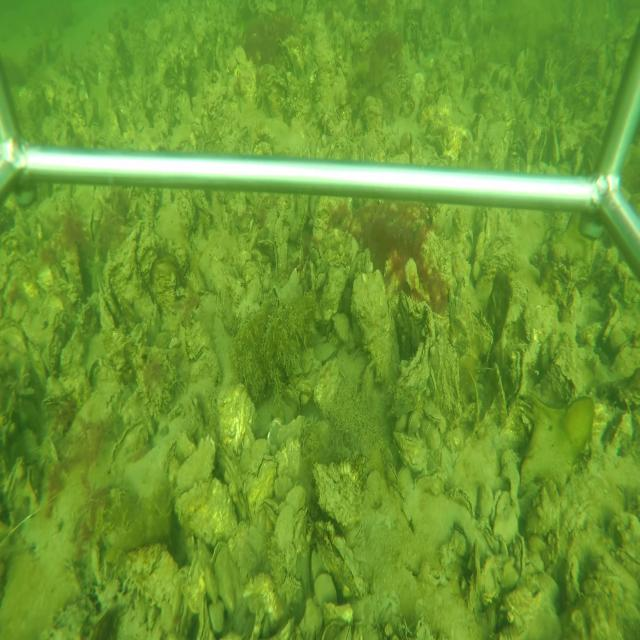Oyster-Closed: (106, 220, 142, 312), (316, 531, 359, 598), (392, 332, 428, 411), (108, 415, 150, 472), (246, 451, 278, 517), (392, 431, 427, 472), (428, 329, 443, 406), (488, 488, 512, 536), (509, 347, 527, 403), (273, 220, 288, 284), (414, 469, 447, 496), (477, 209, 492, 259), (514, 535, 527, 581), (196, 596, 210, 637), (424, 401, 442, 422)
Oyster-Indeterminate: (350, 269, 397, 386), (176, 474, 239, 543), (312, 460, 363, 528), (219, 383, 256, 455), (171, 432, 216, 491), (318, 258, 348, 325), (274, 502, 294, 553)
